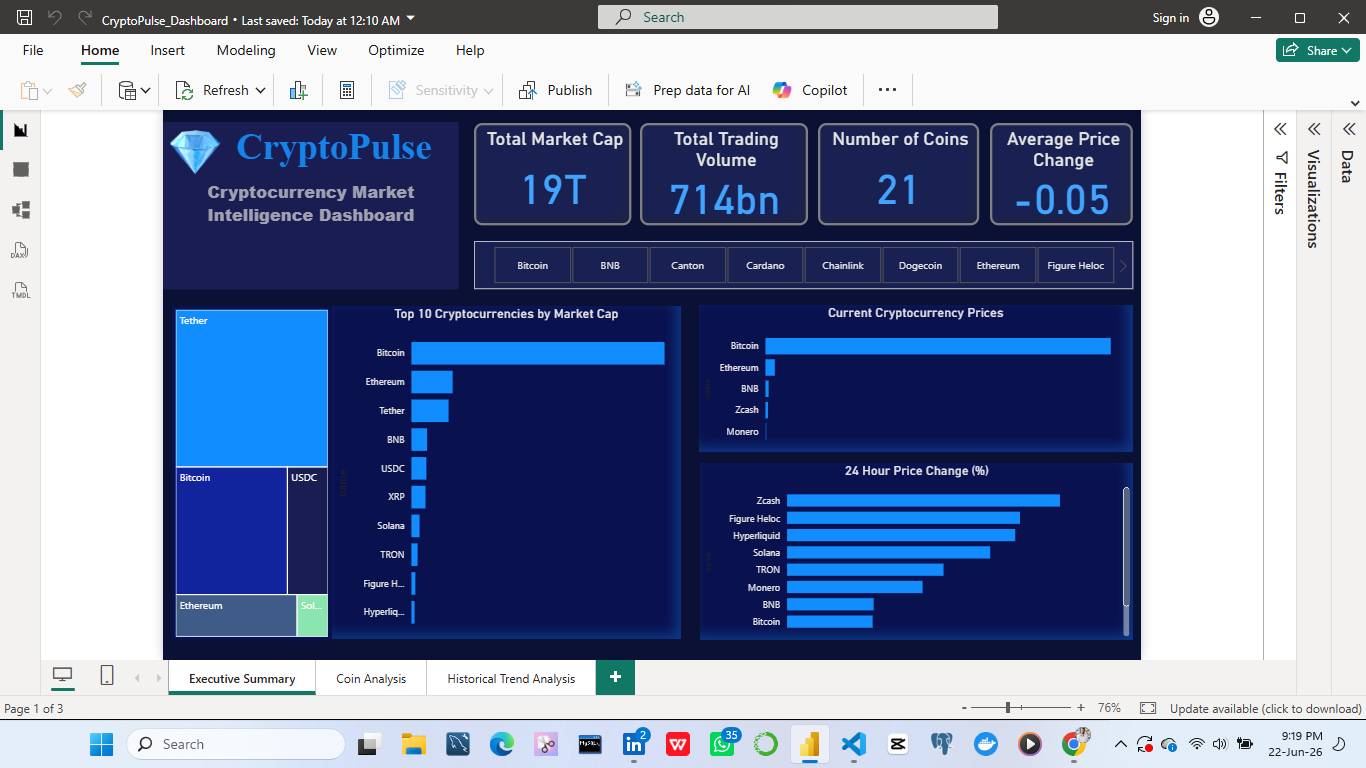

This screenshot's page, from the dashboard's own definition file:
{"tool":"powerbi","page":{"name":"Executive Summary","canvas":[1280,720],"ordinal":0},"visuals":[{"type":"card","title":"Average Price Change","fields":{"Values":["public crypto_prices.Average Price Change"]},"box":[1083.2,16.5,187.2,133.5],"z":0},{"type":"clusteredBarChart","title":"Top 10 Cryptocurrencies by Market Cap","fields":{"Y":["Sum(public crypto_prices.market_cap)"],"Category":["public crypto_prices.name"]},"box":[221.6,256,456.9,436.3],"z":1000},{"type":"treemap","title":"Trading Volume Distribution","fields":{"Group":["public crypto_prices.name"],"Values":["Sum(public crypto_prices.total_volume)"]},"box":[12.4,256,209.2,437.7],"z":2000},{"type":"slicer","fields":{"Values":["public crypto_prices.name"]},"box":[407.5,171.4,862.6,63.4],"z":3000},{"type":"card","title":"Number of Coins","fields":{"Values":["public crypto_prices.Number of Coins"]},"box":[857.5,16.5,210.6,133.5],"z":4000},{"type":"card","title":"Total Trading Volume","fields":{"Values":["Sum(public crypto_prices.total_volume)"]},"box":[624.9,16.5,220.2,133.5],"z":5000},{"type":"card","title":"Total Market Cap","fields":{"Values":["Sum(public crypto_prices.market_cap)"]},"box":[407.4,16.5,206.5,133.5],"z":6000},{"type":"clusteredBarChart","title":"Current Cryptocurrency Prices","fields":{"Y":["Sum(public crypto_prices.current_price)"],"Category":["public crypto_prices.name"]},"box":[702.2,255.3,567.8,193.2],"z":7000},{"type":"textbox","box":[0,15.8,387.4,218.9],"z":8000},{"type":"clusteredBarChart","title":"24 Hour Price Change (%)","fields":{"Y":["public crypto_prices.Average Price Change"],"Category":["public crypto_prices.name"]},"box":[702.7,462.2,567.4,231.8],"z":9000},{"type":"image","box":[0,15.8,85,77.8],"z":10500}]}

Visuals, with their boxes on the page's 1280x720 design canvas (x1, y1, x2, y2). These are canvas units, not pixel positions in the 1366x768 screenshot, which may show the page scaled, cropped or inside an application window:
"Average Price Change" card: Rect(1083, 16, 1270, 150)
"Top 10 Cryptocurrencies by Market Cap" clusteredBarChart: Rect(222, 256, 678, 692)
"Trading Volume Distribution" treemap: Rect(12, 256, 222, 694)
slicer - public crypto_prices.name: Rect(408, 171, 1270, 235)
"Number of Coins" card: Rect(858, 16, 1068, 150)
"Total Trading Volume" card: Rect(625, 16, 845, 150)
"Total Market Cap" card: Rect(407, 16, 614, 150)
"Current Cryptocurrency Prices" clusteredBarChart: Rect(702, 255, 1270, 448)
textbox: Rect(0, 16, 387, 235)
"24 Hour Price Change (%)" clusteredBarChart: Rect(703, 462, 1270, 694)
image: Rect(0, 16, 85, 94)
